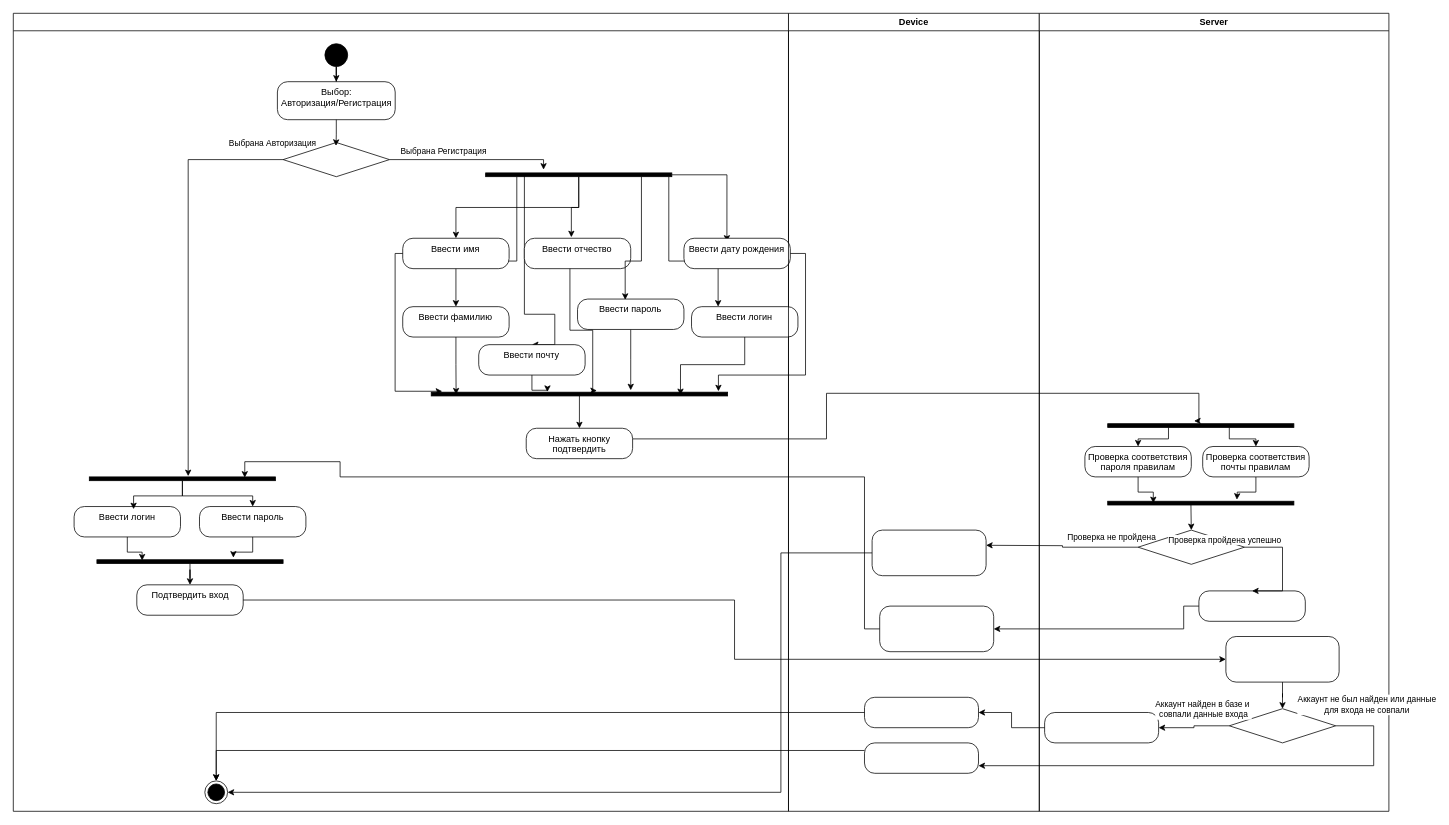
The diagram is 1449 pixels wide and 825 high, and some of its shapes have lost their labels. Here are the shapes that lost their labels. From the top down, the box of each, then its label:
(13, 13, 788, 811): Client
(871, 529, 986, 576): Вывод сообщения об ошибке прохождения проверки
(1198, 590, 1305, 621): Внесение данных в базу
(879, 605, 994, 652): Вывод сообщения об успешности создания аккаунта
(1225, 636, 1339, 682): Проверка наличия аккаунта и проверка данных для входа
(864, 697, 978, 728): Вывести данные сервиса
(1044, 712, 1159, 743): Предоставить доступ к сервису
(864, 742, 978, 773): Вывести сообщение об ошибке
